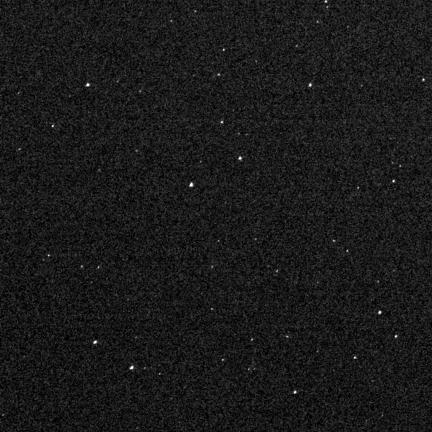blob: (86, 83, 91, 88), (239, 157, 243, 161), (309, 84, 313, 88), (221, 121, 224, 125), (395, 335, 398, 339), (378, 311, 382, 314), (393, 180, 396, 184), (190, 183, 193, 187), (354, 357, 357, 360), (294, 391, 297, 394), (94, 341, 97, 344), (130, 366, 133, 369)
